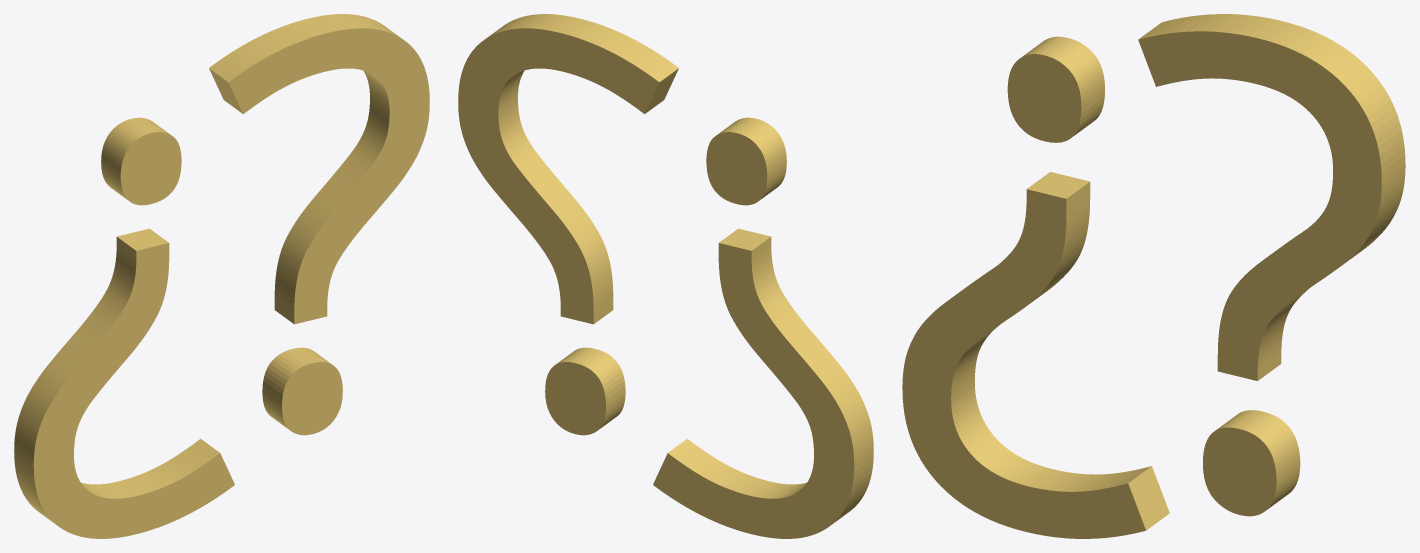
Rendered from Pregunta.fbx.
The picture shows the model from 3 angles, left to right: view 1: azimuth 30°, elevation 25°; view 2: azimuth 150°, elevation 25°; view 3: azimuth 330°, elevation 25°; orthographic projection. The views are drawn at different scales.
Parts seen in each view (by area): view 1: Texto, Texto.001; view 2: Texto, Texto.001; view 3: Texto, Texto.001.
Boxes of the visible parts, box(x1,y1,x2,y2) form: Texto: box(14, 117, 234, 538); Texto.001: box(209, 14, 429, 435); Texto: box(653, 117, 873, 538); Texto.001: box(458, 14, 678, 435); Texto: box(902, 36, 1169, 538); Texto.001: box(1138, 14, 1405, 516).
Size of the model in its own units: 58.33 by 63.98 by 5.
